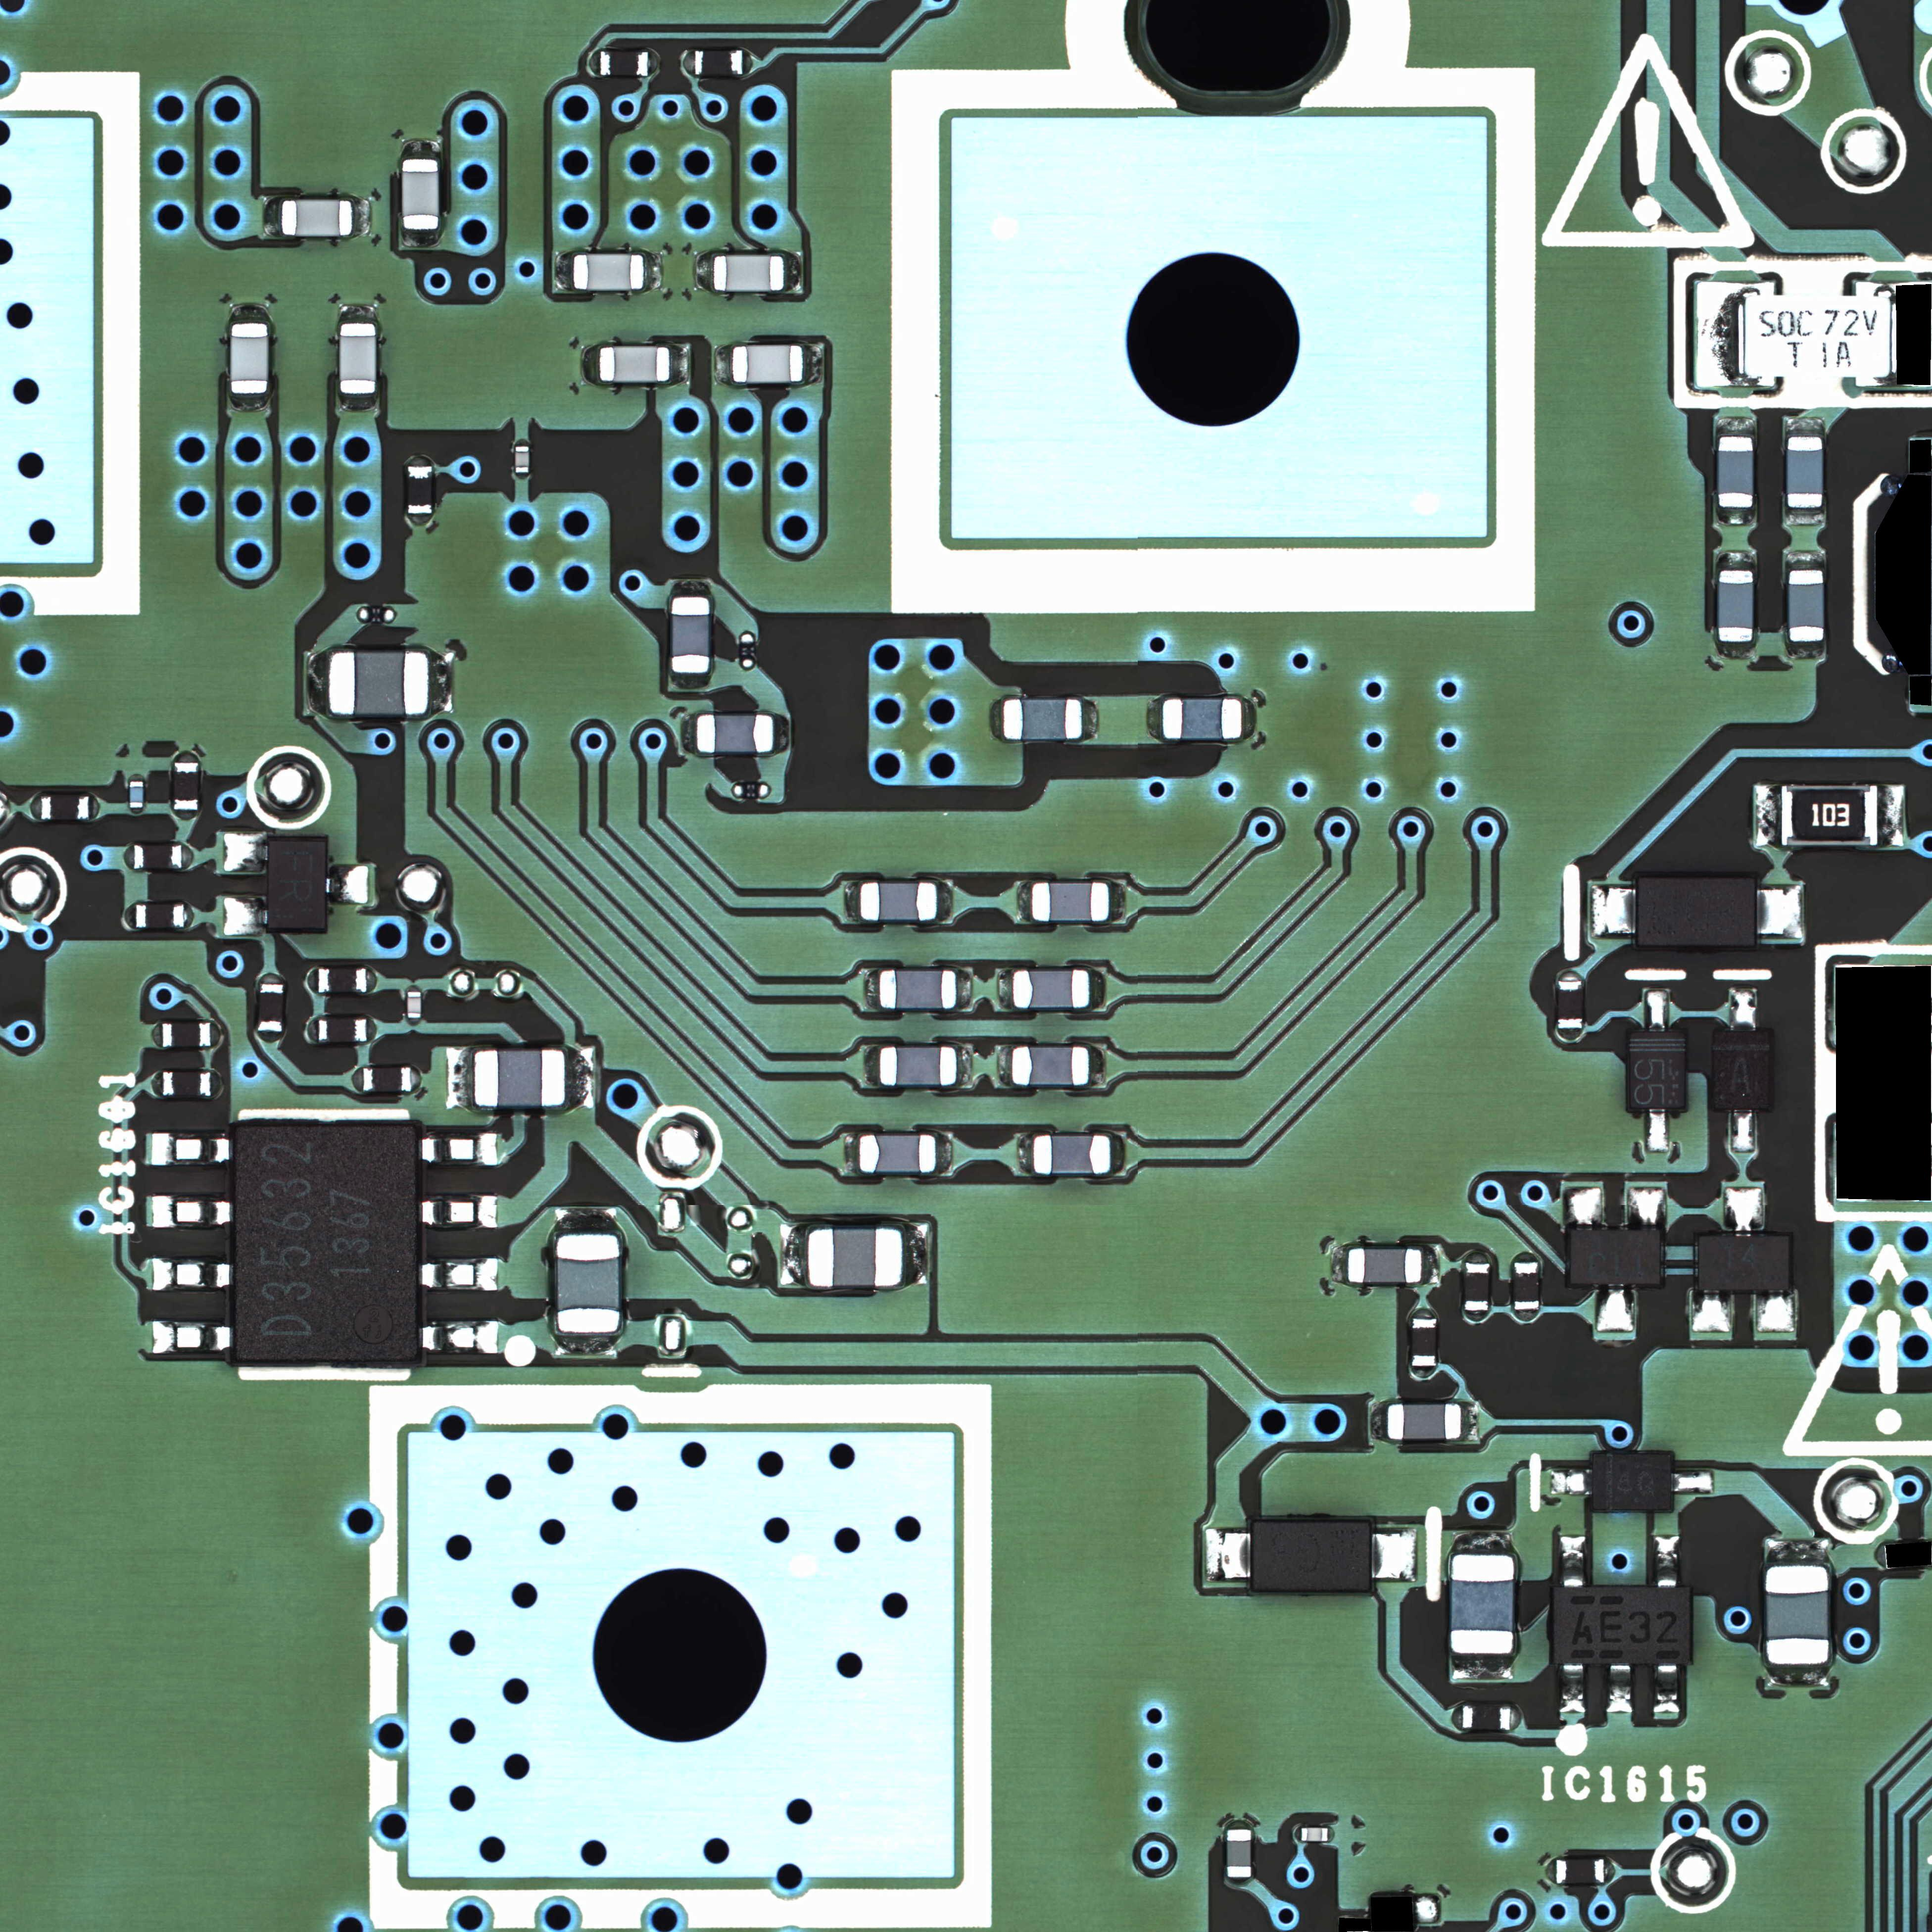Package: (235, 1127, 419, 1359), (1746, 297, 1895, 375), (1555, 1589, 1690, 1665), (1638, 878, 1755, 948), (1253, 1522, 1369, 1591), (556, 1233, 621, 1334), (329, 651, 428, 715), (1451, 1553, 1513, 1654), (1766, 1566, 1829, 1663), (1782, 786, 1877, 846), (809, 1230, 902, 1286), (474, 1049, 564, 1106), (269, 840, 326, 927), (1571, 1230, 1661, 1283), (1698, 1237, 1787, 1290), (1592, 1454, 1672, 1509), (1629, 1031, 1684, 1109), (1714, 1031, 1769, 1109), (1162, 699, 1242, 740), (1003, 699, 1081, 740), (1031, 883, 1109, 922), (1012, 970, 1090, 1008), (1012, 1047, 1090, 1086), (697, 713, 773, 752), (862, 881, 938, 920), (879, 970, 955, 1008), (879, 1047, 955, 1086), (860, 1134, 936, 1173), (1033, 1136, 1109, 1175), (671, 598, 709, 672), (1785, 435, 1824, 508), (230, 324, 269, 395), (573, 253, 646, 290), (1787, 570, 1824, 642), (1716, 570, 1753, 642), (713, 255, 784, 292), (1387, 1403, 1461, 1438), (1348, 1247, 1421, 1283), (1718, 435, 1753, 508), (732, 345, 801, 382), (600, 345, 669, 382), (281, 200, 352, 235), (403, 159, 439, 230), (340, 324, 375, 393), (134, 902, 184, 927), (161, 1023, 211, 1047), (407, 465, 432, 513), (41, 796, 88, 821), (173, 763, 198, 810), (134, 844, 182, 869), (363, 1067, 410, 1092), (258, 984, 283, 1031), (600, 50, 648, 74), (1226, 1829, 1251, 1877), (1463, 1706, 1511, 1730), (1514, 1261, 1539, 1309), (1559, 980, 1583, 1028), (695, 50, 741, 74), (1555, 1859, 1605, 1882), (1412, 1320, 1437, 1366), (163, 1072, 211, 1095), (318, 968, 366, 991), (1467, 1263, 1490, 1311), (318, 1019, 366, 1040), (515, 446, 529, 472), (129, 782, 143, 809), (407, 993, 421, 1019), (1300, 1828, 1327, 1842)
Solder: (1697, 281, 1739, 387), (150, 1132, 235, 1166), (150, 1194, 235, 1228), (150, 1320, 235, 1353), (150, 1256, 235, 1290), (419, 1258, 499, 1292), (419, 1320, 499, 1353), (421, 1132, 499, 1166), (1371, 1529, 1417, 1583), (1205, 1527, 1251, 1582), (1757, 885, 1803, 939), (419, 1196, 497, 1228), (1592, 885, 1637, 936), (1723, 1185, 1764, 1237), (1594, 1284, 1635, 1332), (566, 1046, 594, 1109), (1690, 1290, 1732, 1332), (225, 832, 269, 872), (223, 897, 267, 938), (1626, 1185, 1667, 1230), (448, 1046, 474, 1111), (1755, 784, 1782, 849), (778, 1224, 807, 1284), (902, 1223, 929, 1286), (1879, 784, 1905, 847), (1564, 1187, 1603, 1230), (1755, 1290, 1794, 1332), (430, 649, 455, 715), (554, 1208, 619, 1233), (327, 865, 368, 904), (1451, 1654, 1514, 1679), (1766, 1539, 1829, 1564), (1762, 1665, 1833, 1686), (554, 1336, 623, 1357), (1605, 1665, 1633, 1714), (1654, 1536, 1681, 1587), (308, 648, 327, 717), (1559, 1665, 1585, 1714), (1451, 1532, 1511, 1553), (1560, 1536, 1585, 1587), (1654, 1665, 1681, 1713), (1729, 987, 1757, 1030), (1644, 989, 1670, 1031), (1672, 1470, 1714, 1495), (1730, 1109, 1755, 1152), (1552, 1468, 1591, 1495), (1645, 1109, 1668, 1152), (402, 138, 441, 159), (713, 343, 732, 386), (1785, 550, 1826, 570), (1716, 550, 1757, 570), (1785, 416, 1826, 435), (1109, 879, 1127, 924), (230, 303, 269, 322), (803, 345, 823, 384), (671, 345, 690, 384), (1716, 416, 1755, 435), (842, 879, 860, 922), (1146, 695, 1162, 741), (230, 395, 271, 412), (695, 251, 713, 292), (671, 579, 711, 596), (1461, 1401, 1479, 1442), (1422, 1244, 1440, 1284), (1787, 642, 1828, 660), (681, 711, 697, 755), (1083, 697, 1099, 741), (957, 966, 973, 1010), (1090, 1044, 1106, 1088), (957, 1044, 973, 1088), (1111, 1132, 1127, 1177), (1415, 1893, 1438, 1923), (646, 253, 663, 292), (556, 251, 573, 290), (1785, 508, 1824, 525), (1716, 508, 1755, 525), (786, 251, 801, 294), (582, 343, 598, 386), (938, 881, 954, 924), (1016, 881, 1031, 924), (996, 966, 1012, 1008), (862, 968, 878, 1010), (863, 1044, 879, 1086), (936, 1131, 952, 1173), (1371, 1399, 1387, 1442), (1330, 1244, 1346, 1286), (1714, 642, 1757, 658), (264, 198, 281, 235), (671, 674, 711, 690), (1090, 968, 1106, 1008), (1017, 1134, 1033, 1175), (403, 230, 439, 248), (340, 304, 375, 322), (989, 697, 1003, 741), (998, 1044, 1012, 1088), (354, 198, 370, 237), (775, 713, 789, 755), (340, 395, 377, 410), (844, 1132, 858, 1173), (1244, 697, 1256, 740), (1872, 1543, 1886, 1571), (648, 50, 662, 76), (1451, 1704, 1463, 1732), (1513, 1309, 1541, 1322), (1412, 1366, 1438, 1378), (1557, 1030, 1583, 1042), (366, 968, 379, 993), (258, 1031, 283, 1044), (683, 50, 695, 74), (1465, 1311, 1490, 1323), (30, 793, 41, 821), (173, 750, 200, 761), (90, 794, 101, 821), (184, 902, 195, 929), (124, 901, 134, 927), (306, 966, 317, 993), (211, 1021, 221, 1047), (212, 1070, 223, 1097), (589, 48, 600, 74), (743, 50, 754, 76), (1511, 1704, 1522, 1730), (407, 455, 432, 465), (409, 515, 433, 525), (173, 810, 198, 821), (182, 844, 193, 869), (124, 844, 134, 869), (308, 1017, 318, 1042), (258, 971, 283, 982), (150, 1021, 161, 1046), (412, 1067, 423, 1092), (352, 1065, 363, 1090), (150, 1070, 161, 1095), (1412, 1307, 1437, 1318), (1545, 1859, 1555, 1882), (1465, 1251, 1488, 1261), (1513, 1251, 1539, 1260), (1557, 971, 1583, 980), (1226, 1819, 1251, 1828), (1606, 1858, 1615, 1882), (368, 1019, 377, 1042), (1228, 1879, 1251, 1884), (127, 773, 143, 780), (1327, 1828, 1336, 1840), (515, 439, 529, 446), (1293, 1828, 1300, 1842), (515, 474, 531, 479), (405, 1021, 421, 1026), (131, 809, 143, 814), (407, 985, 419, 991)
